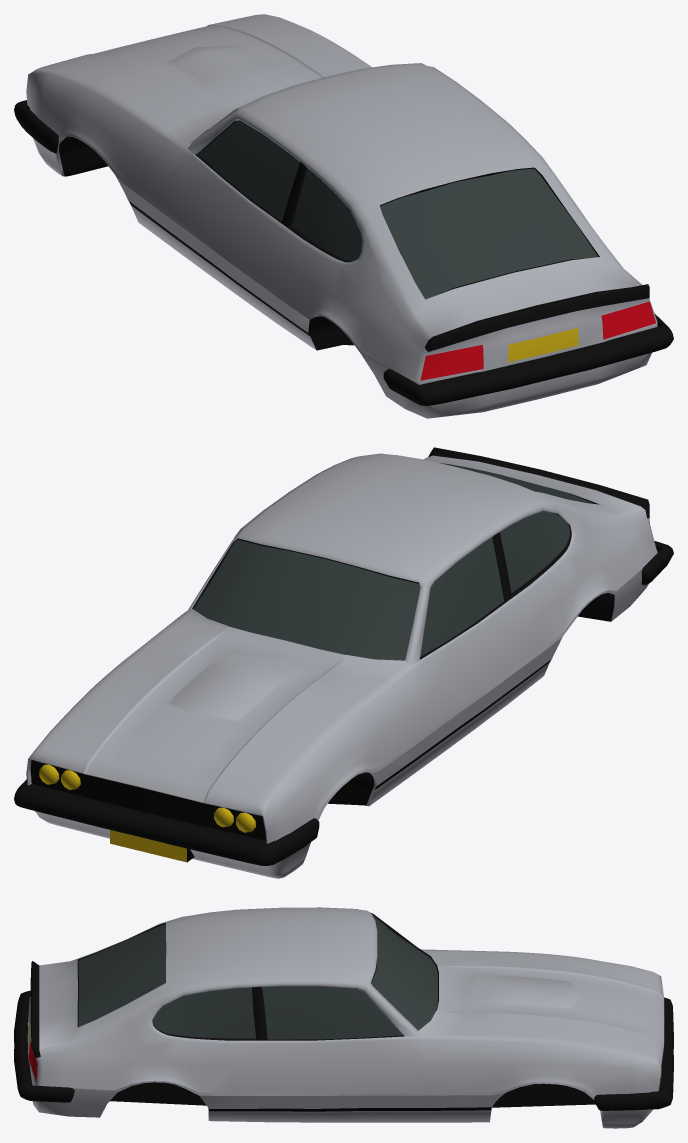
3 views of the same model, one above another, from view 1: azimuth 30°, elevation 25°; view 2: azimuth 150°, elevation 25°; view 3: azimuth 270°, elevation 25° (orthographic). The views are drawn at different scales.
Parts seen in each view (by area): view 1: Capri; view 2: Capri; view 3: Capri.
Boxes of the visible parts, x1=… form: Capri: x1=14, y1=14, x2=673, y2=418; Capri: x1=14, y1=447, x2=673, y2=878; Capri: x1=14, y1=907, x2=673, y2=1128.
Size of the model in its own units: 184 by 126 by 496.
